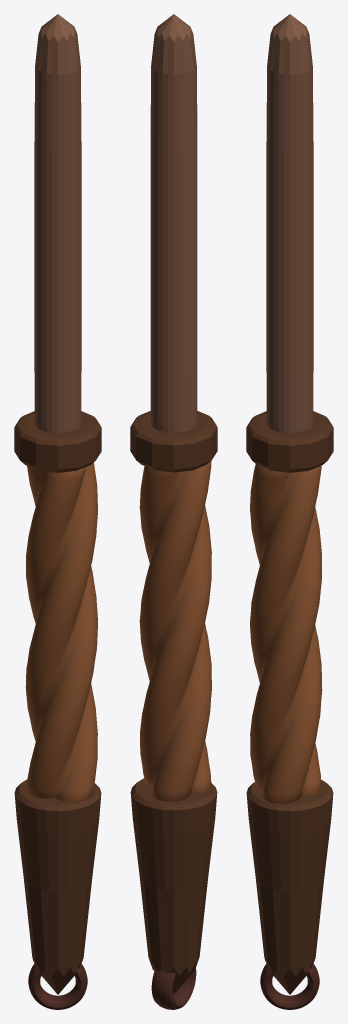
File: Wand 811.glb
The picture shows the model from 3 angles, left to right: view 1: azimuth 90°, elevation 25°; view 2: azimuth 150°, elevation 25°; view 3: azimuth 270°, elevation 25°; orthographic projection.
Parts seen in each view (by area): view 1: GeneratedWand; view 2: GeneratedWand; view 3: GeneratedWand.
Boxes of the visible parts, box(x1,y1,x2,y2) form: GeneratedWand: box(14, 14, 101, 1009); GeneratedWand: box(130, 14, 217, 1009); GeneratedWand: box(246, 14, 333, 1009).
Size of the model in its own units: 0.0398 by 0.4983 by 0.0398.
